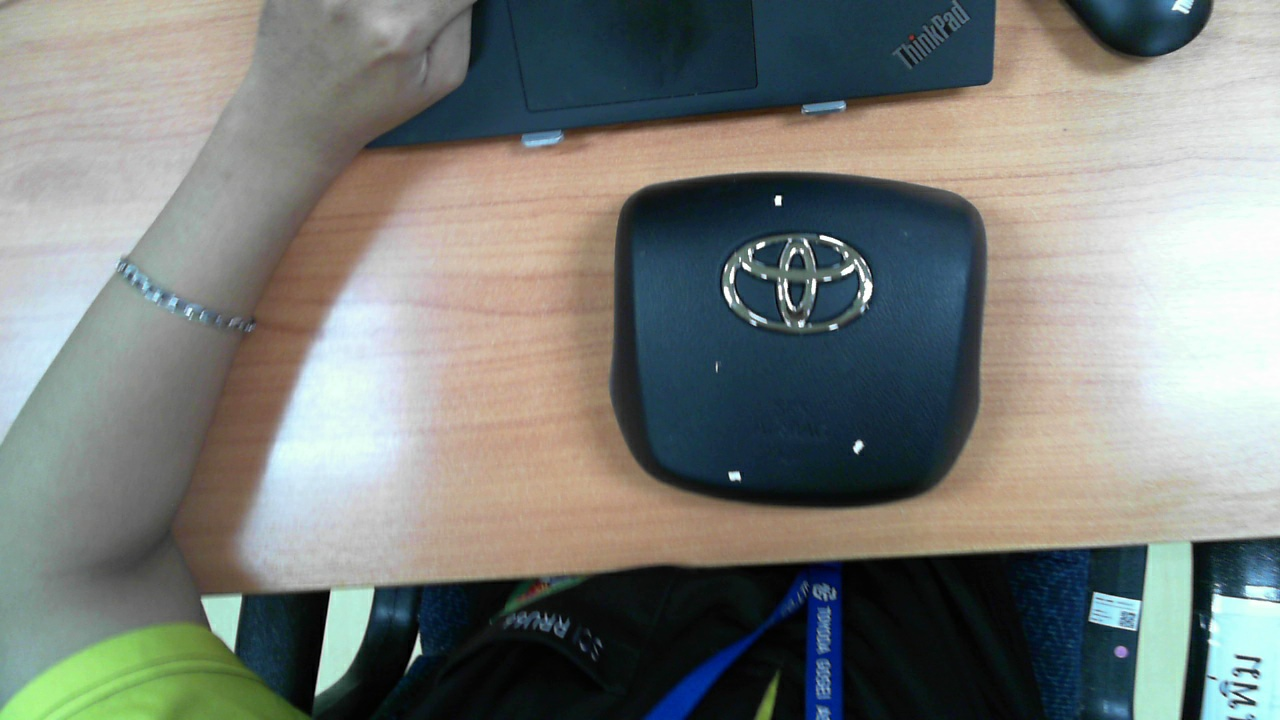Airbag: (610, 172, 989, 511)
Mark: (728, 470, 742, 482), (853, 439, 864, 454), (774, 195, 783, 207), (715, 360, 719, 374)
